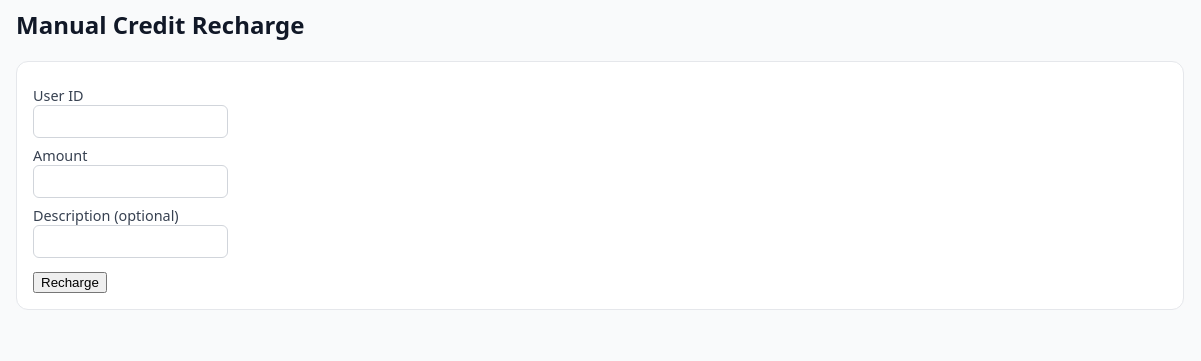
AdminRecharge (unit) › submits and shows status
Type "1" into the 1st number field.
click(130, 121); type("1")  # box [33, 105, 228, 138]
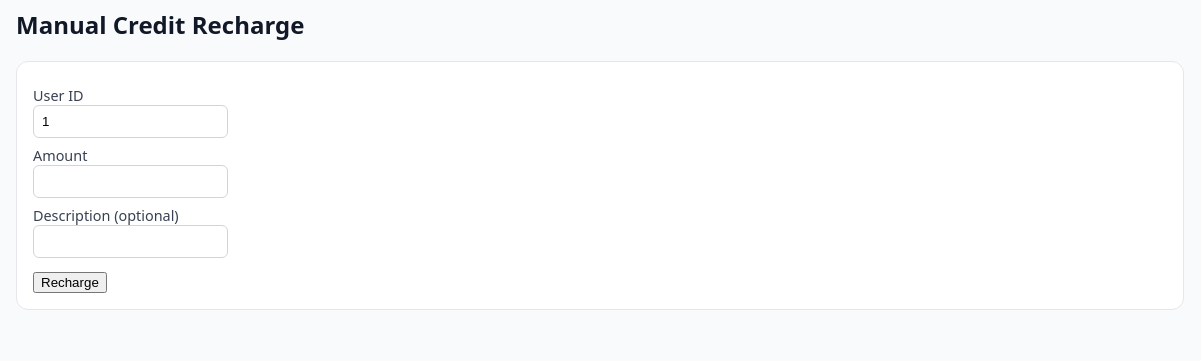
Type "500" into the 2nd number field.
click(130, 181); type("500")  # box [33, 165, 228, 198]
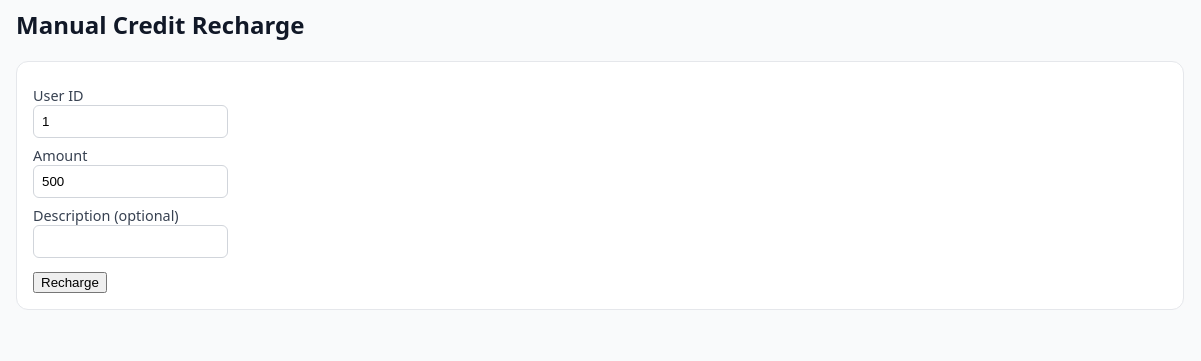
Click the button "Recharge".
click(70, 282)  # box [33, 272, 107, 293]
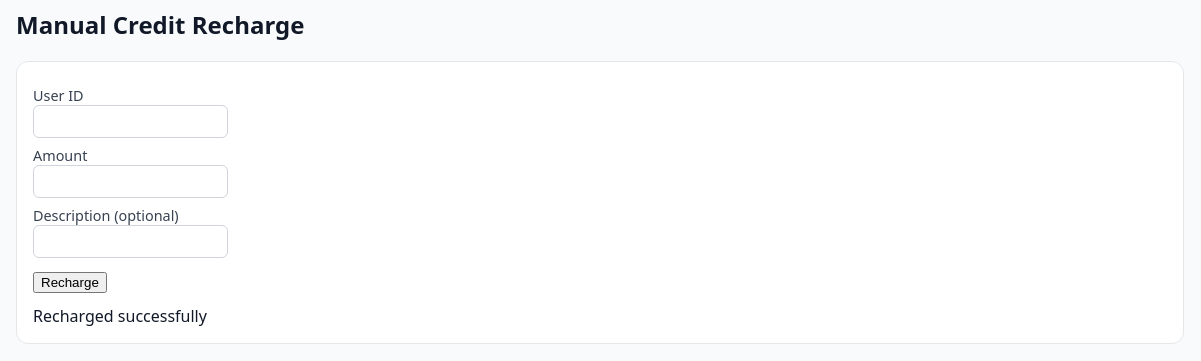
Now the text "Recharged successfully" is shown, box [33, 305, 207, 327]
